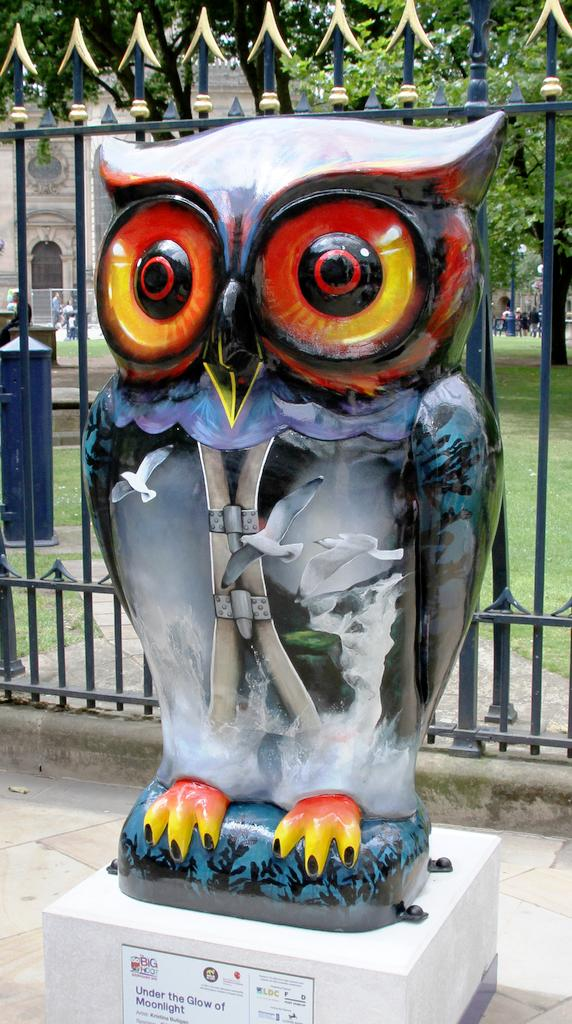Owl: (82, 116, 499, 888)
